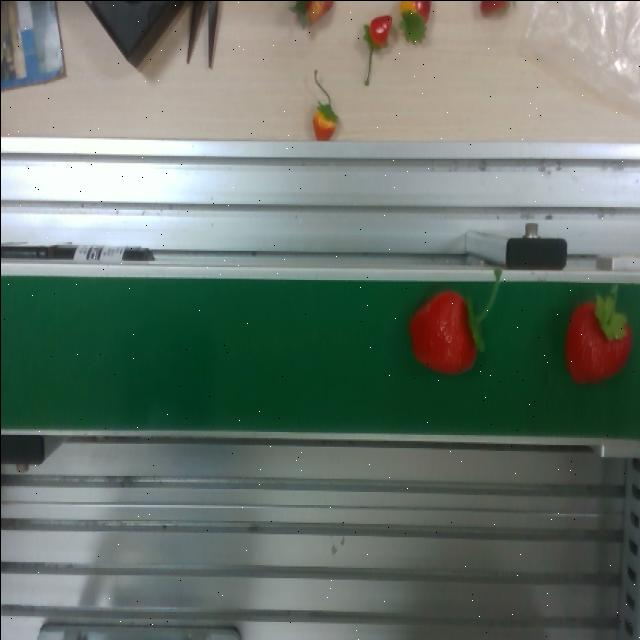Large Ripe Strawberry: (404, 286, 492, 389), (552, 290, 632, 386)
conveyor: (0, 257, 640, 450)
